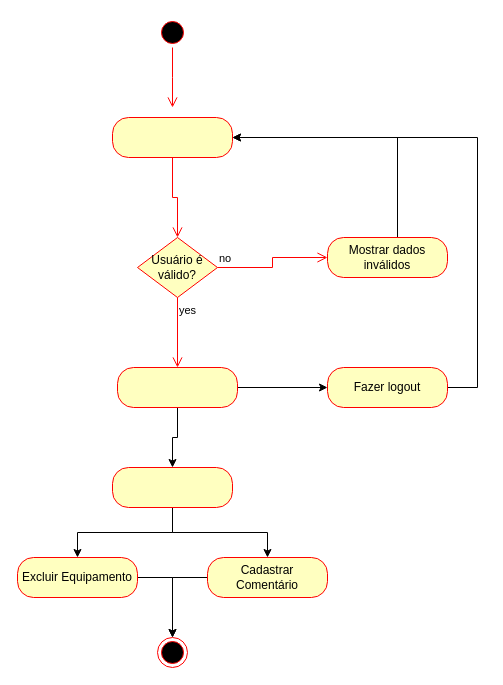
Some shapes in this 503 by 685 pixel diagram are drawn without their labels. Each missing label, with the centre of its shape:
Acessar página de equipamentos: (177,387)
Cadastrar novo equipamento: (172,487)
Efetuar Login: (172,137)
